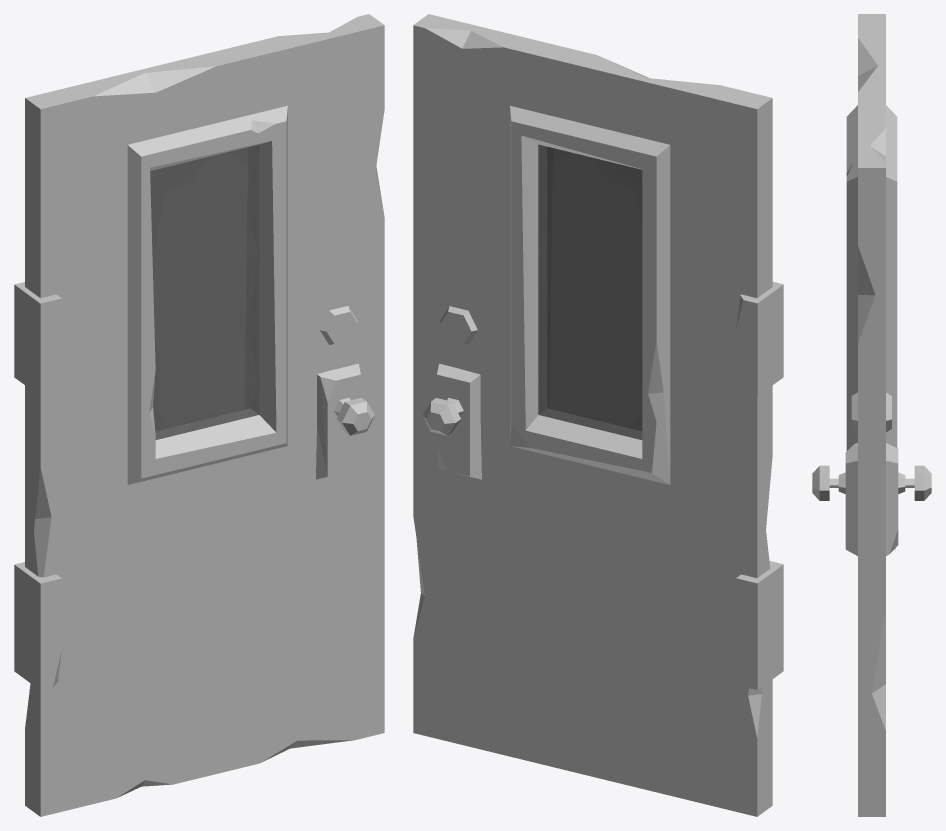
File: SM_Bld_Door_04.fbx
3 renders of one model, left to right at view 1: azimuth 30°, elevation 25°; view 2: azimuth 150°, elevation 25°; view 3: azimuth 270°, elevation 25°, orthographic. The views are drawn at different scales.
Visible parts, largest first — view 1: SM_Bld_Door_04; view 2: SM_Bld_Door_04; view 3: SM_Bld_Door_04.
Part boxes in pixels (x1=…): SM_Bld_Door_04: x1=14, y1=14, x2=384, y2=816; SM_Bld_Door_04: x1=413, y1=14, x2=783, y2=816; SM_Bld_Door_04: x1=812, y1=14, x2=931, y2=816.
Bounding box in the file's own units: 102 × 197 × 32.76.
